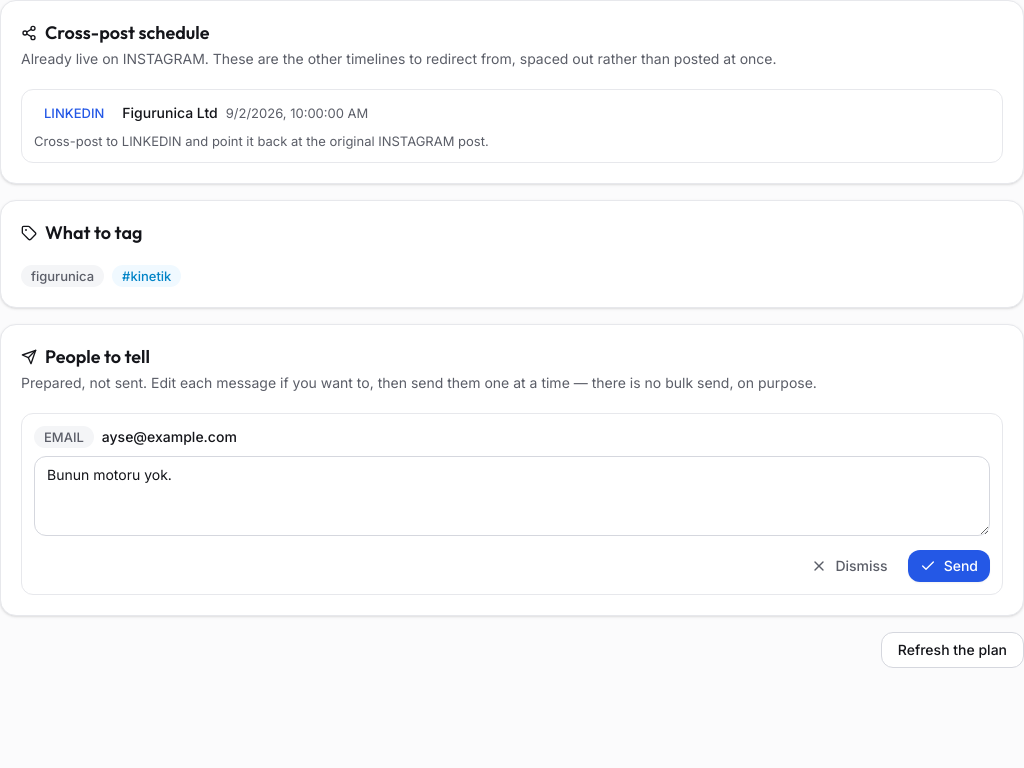
Test: DistributionPanel — nothing sends itself › sends nothing when the confirmation is declined
Click the button "Send" at x=949, y=566, box [908,550,990,582]
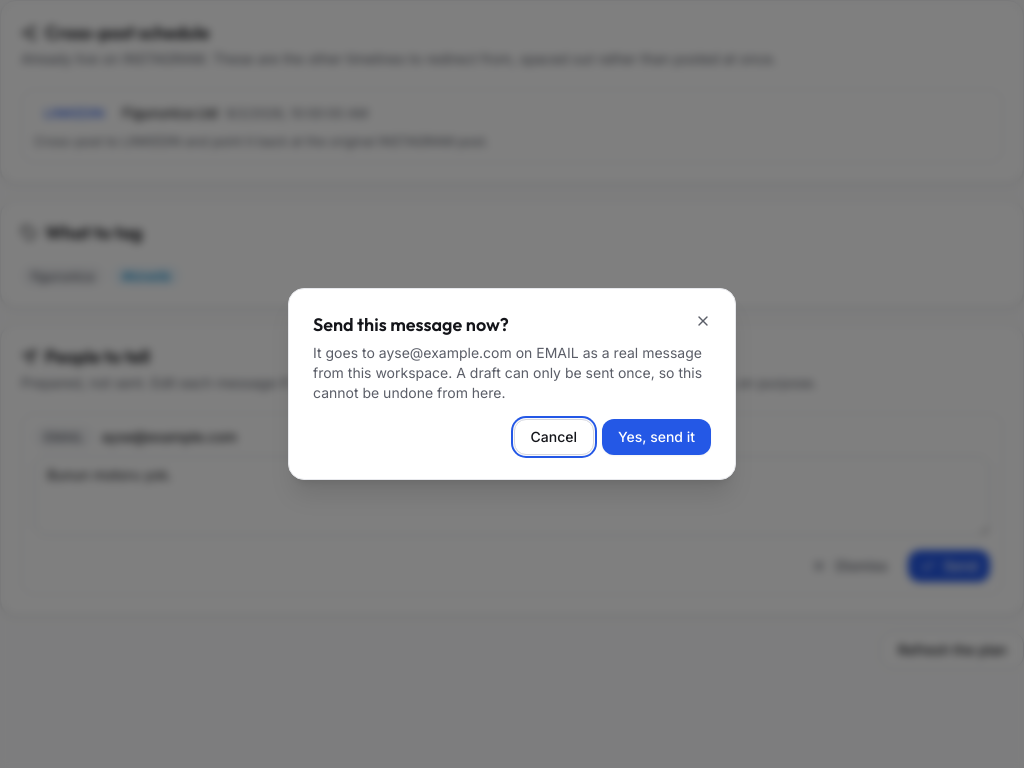
Click the button "Cancel" at x=554, y=437, box [514,419,594,455]
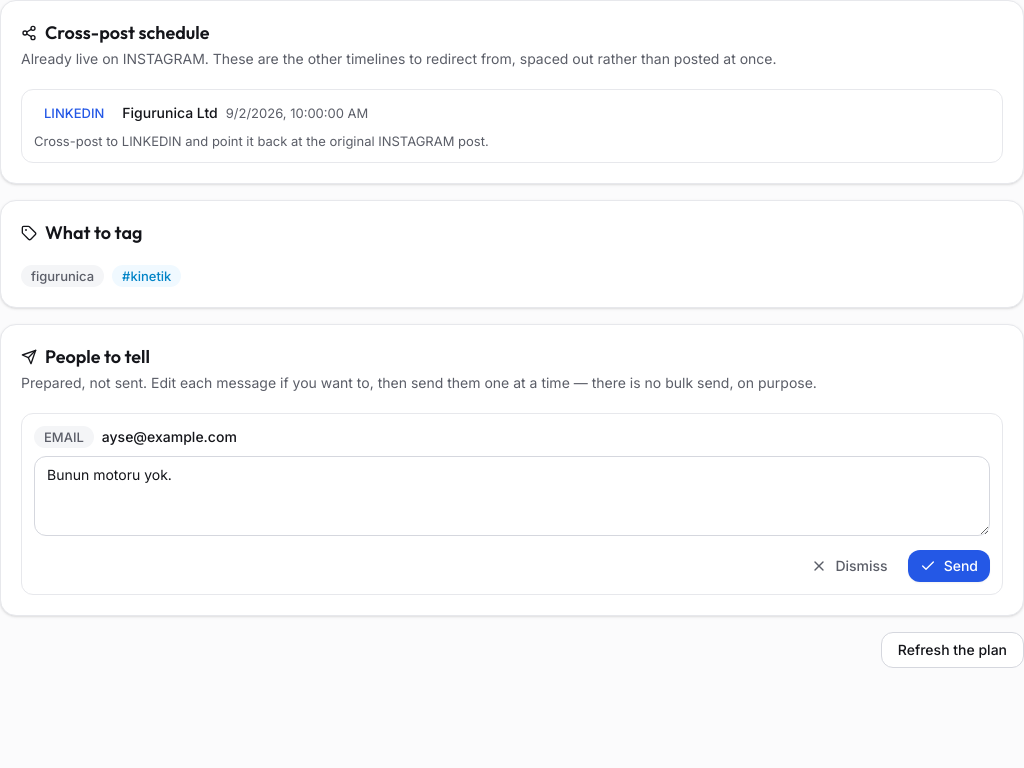
Check: the button "Yes, send it" is gone
